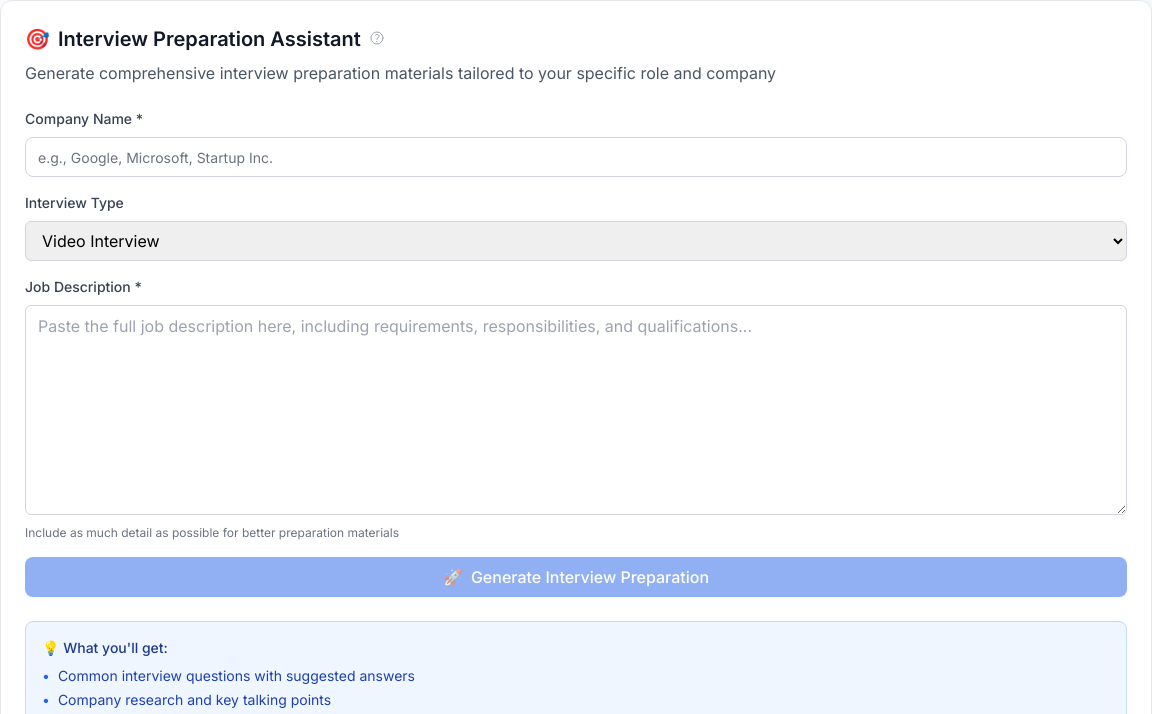
Scenario: InterviewPreparation › generates interview preparation successfully
Note: Fill in the form
Type "Google" into the field labelled "Company Name *". click: point(576, 157)
box: top-left (25, 137), bottom-right (1127, 177)
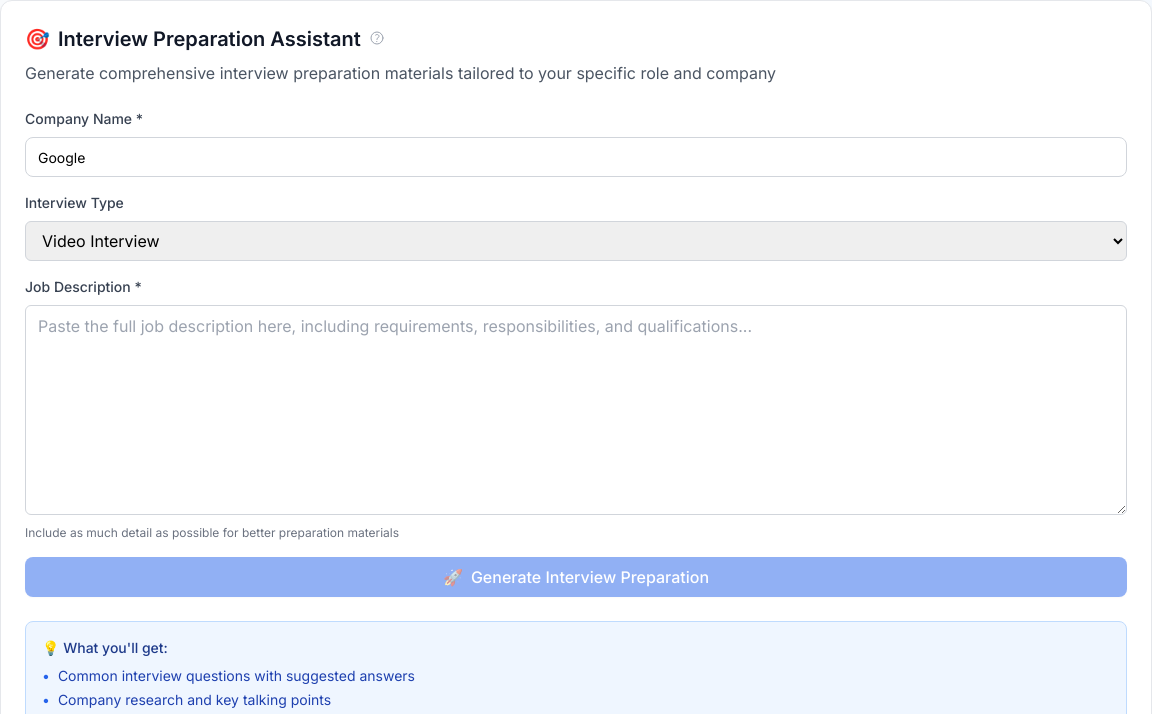
Replace the text in the text box labelled "Job Description *" with "Software Engineer position requiring React and JavaScript experience...". click: point(576, 410)
box: top-left (25, 305), bottom-right (1127, 515)
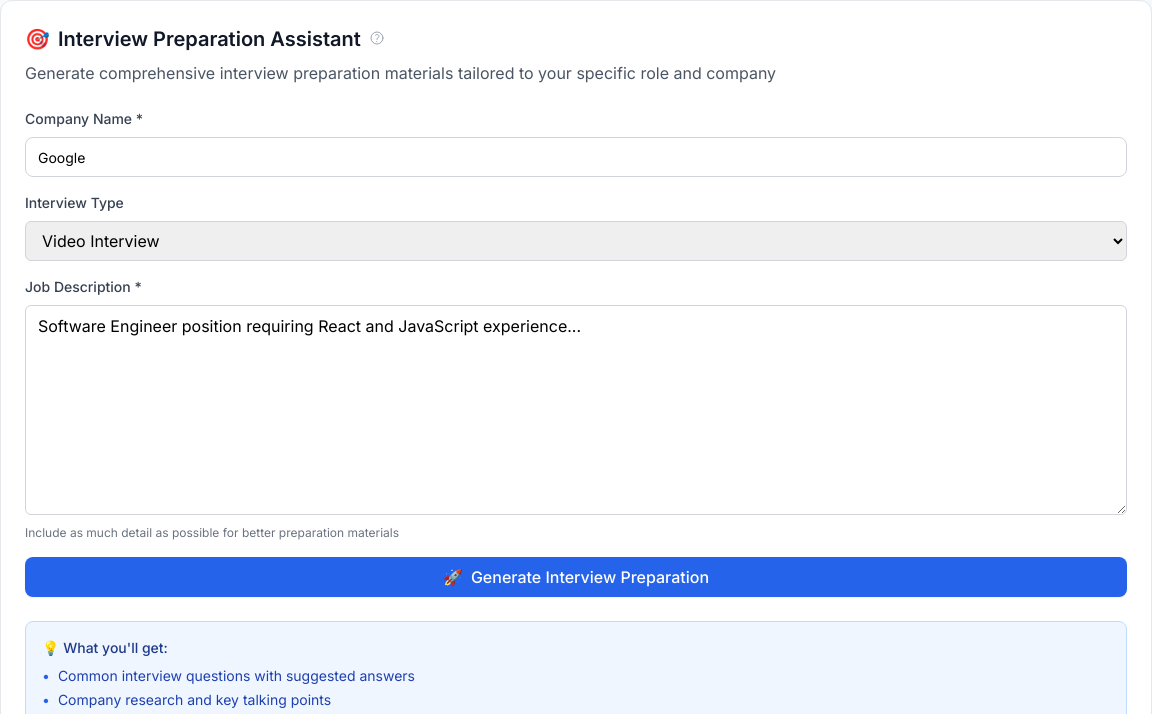
Note: Submit the form
Click the button "🚀 Generate Interview Preparation". click: point(576, 577)
box: top-left (25, 557), bottom-right (1127, 597)
(page scrolled)
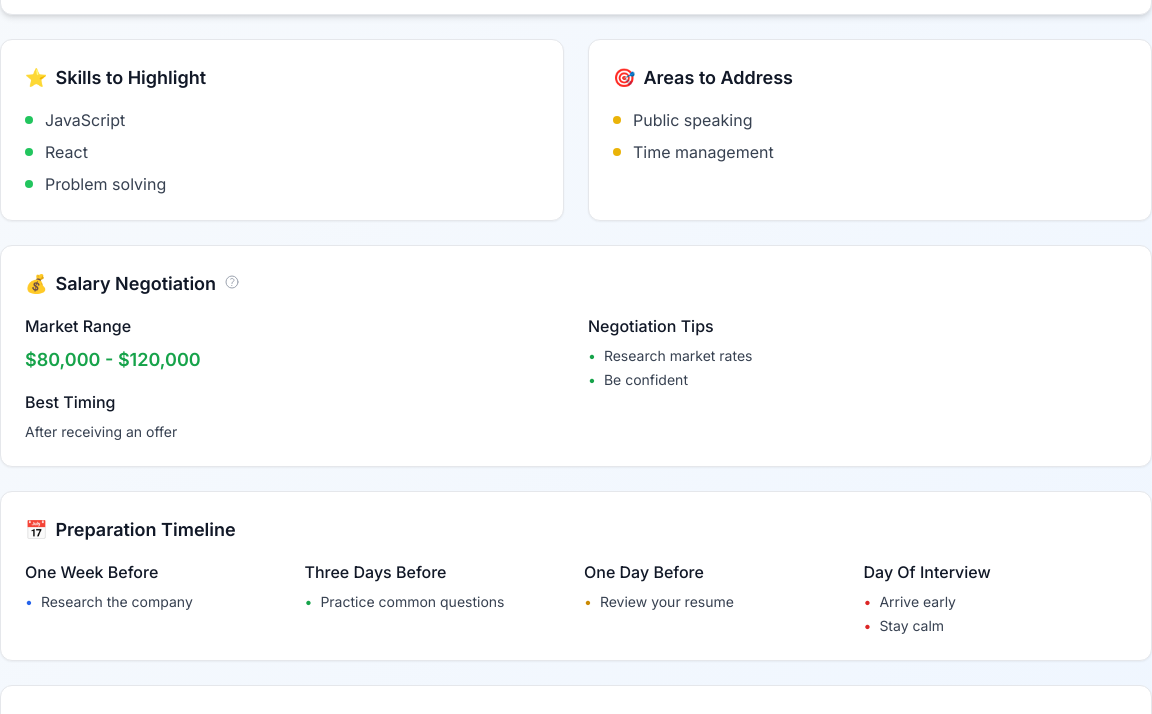
Result: the text "JavaScript" is shown at top-left (45, 108), bottom-right (125, 132)
Result: the text "$80,000 - $120,000" is shown at top-left (25, 349), bottom-right (201, 370)
